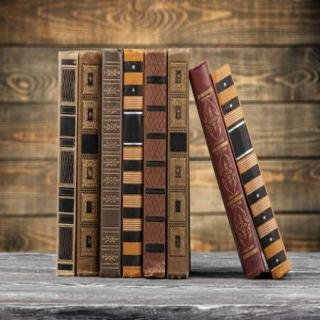book-spine: (207, 64, 295, 282), (184, 60, 269, 281), (76, 51, 102, 277), (167, 49, 191, 279), (143, 51, 167, 279), (122, 49, 144, 278), (100, 49, 122, 277), (56, 52, 78, 277)
